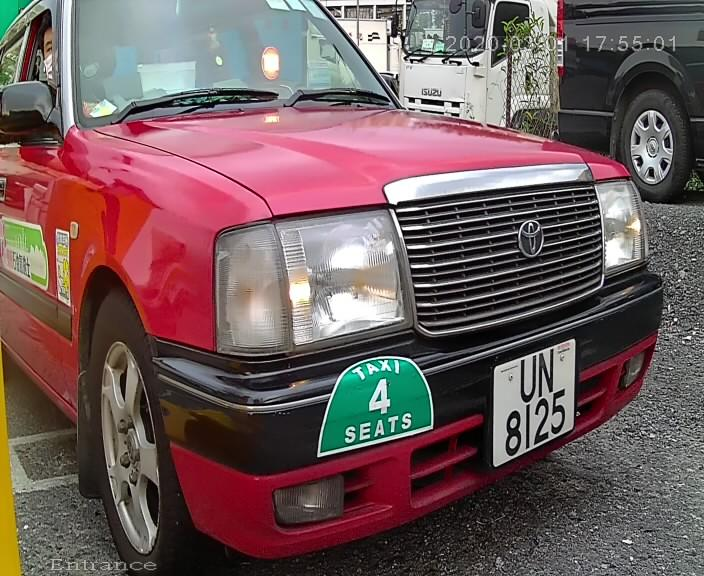Car: (70, 8, 626, 546)
License Plate: (478, 337, 585, 469)
